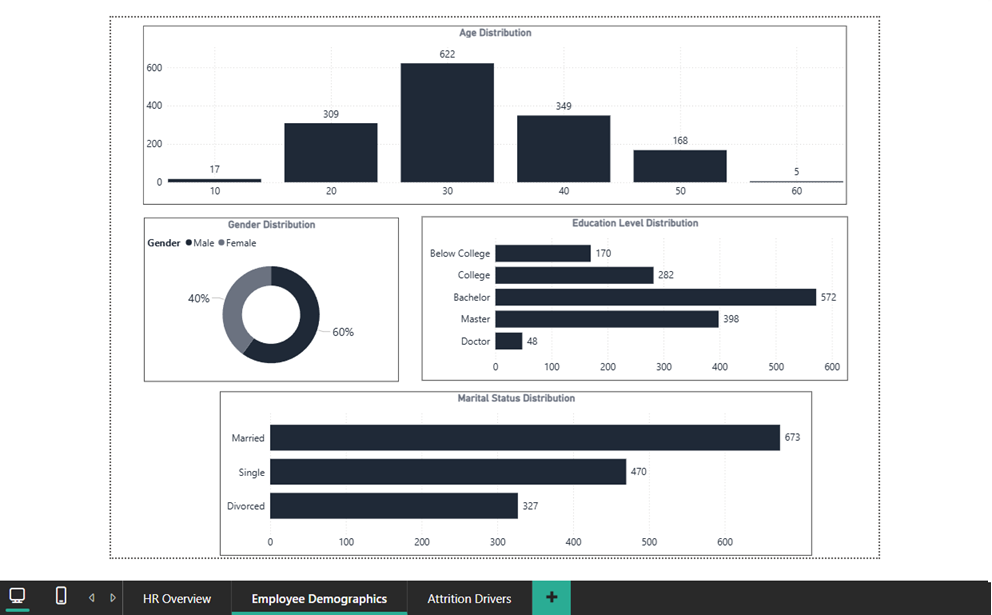

What the dashboard file says about the page in this screenshot:
{"tool":"powerbi","page":{"name":"Employee Demographics","canvas":[1280,900],"ordinal":1},"visuals":[{"type":"clusteredColumnChart","title":"Age Distribution","fields":{"Category":["HR Employee Attrition Analysis.Age (contenitori)"],"Y":["CountNonNull(HR Employee Attrition Analysis.Employee Number)"]},"box":[52.9,14,1174,298.6],"z":0},{"type":"donutChart","title":"Gender Distribution","fields":{"Category":["HR Employee Attrition Analysis.Gender"],"Y":["CountNonNull(HR Employee Attrition Analysis.Employee Number)"]},"box":[54.4,332.8,424.5,273.7],"z":1000},{"type":"clusteredBarChart","title":"Education Level Distribution","fields":{"Y":["CountNonNull(HR Employee Attrition Analysis.Employee Number)"],"Category":["HR Employee Attrition Analysis.Education Label"]},"box":[517.8,331.2,710.6,273.7],"z":2000},{"type":"clusteredBarChart","title":"Marital Status Distribution","fields":{"Category":["HR Employee Attrition Analysis.Marital Status"],"Y":["CountNonNull(HR Employee Attrition Analysis.Employee Number)"]},"box":[181.9,623.5,987.4,273.7],"z":3000}]}

Visuals, with their boxes on the page's 1280x900 design canvas (x1, y1, x2, y2). These are canvas units, not pixel positions in the 992x615 screenshot, which may show the page scaled, cropped or inside an application window:
"Age Distribution" clusteredColumnChart: 53:14:1227:313
"Gender Distribution" donutChart: 54:333:479:606
"Education Level Distribution" clusteredBarChart: 518:331:1228:605
"Marital Status Distribution" clusteredBarChart: 182:624:1169:897
